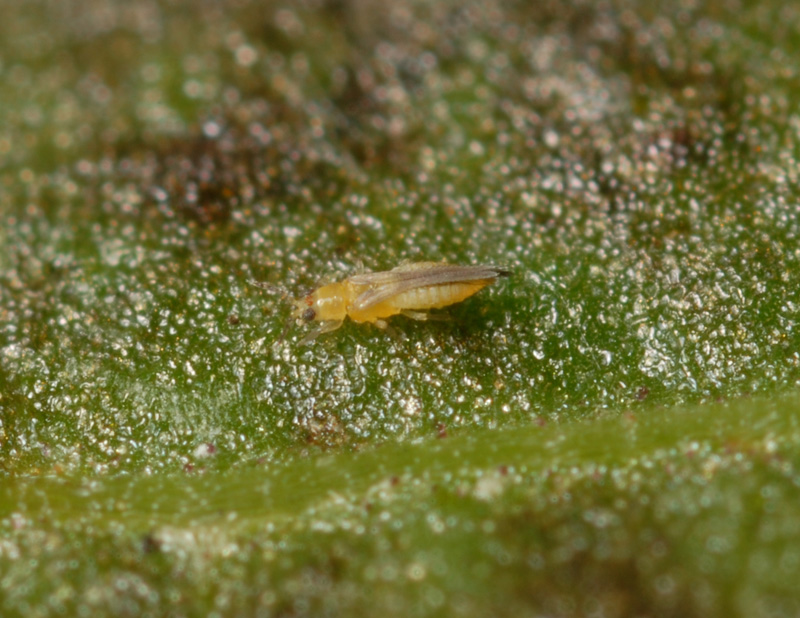Thrips: (283, 247, 523, 360)
